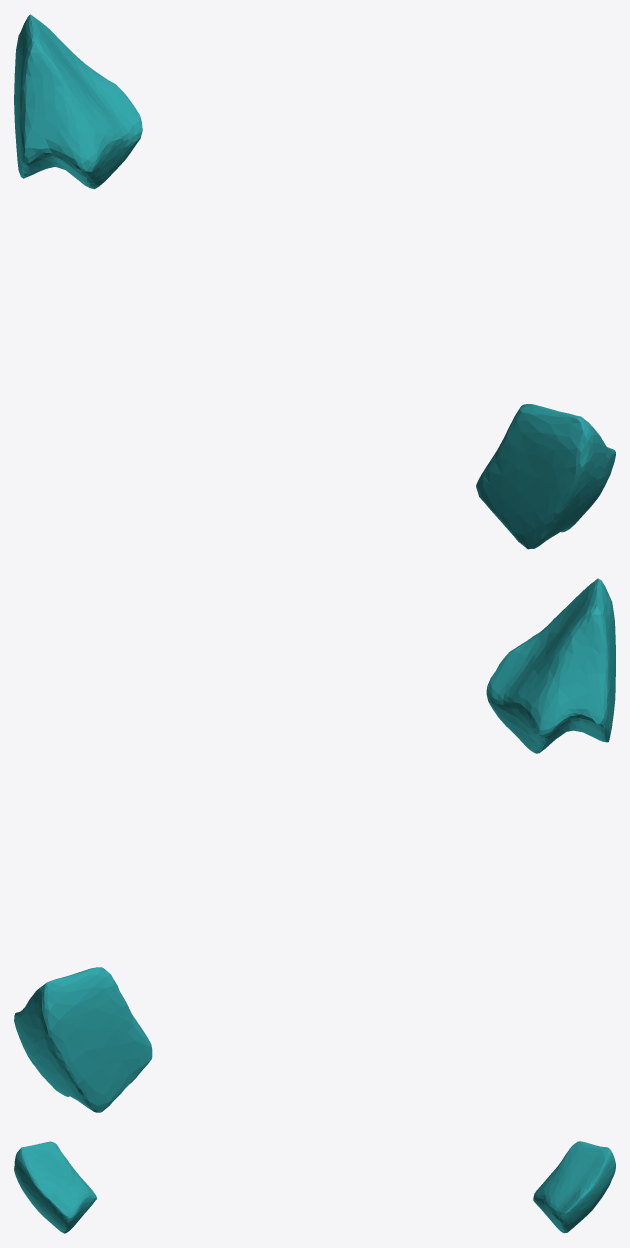
3 renders of one model, top to bottom at view 1: azimuth 30°, elevation 25°; view 2: azimuth 150°, elevation 25°; view 3: azimuth 270°, elevation 25°, orthographic. The views are drawn at different scales.
Visible parts, largest first — view 1: 312782628.obj; view 2: 312782628.obj; view 3: 312782628.obj.
Part boxes in pixels (x1,y1,x2,y2): 312782628.obj: (14, 14, 615, 549); 312782628.obj: (14, 578, 615, 1112); 312782628.obj: (14, 1141, 615, 1233).
Bounding box in the file's own units: 1216 × 1398 × 9530.
